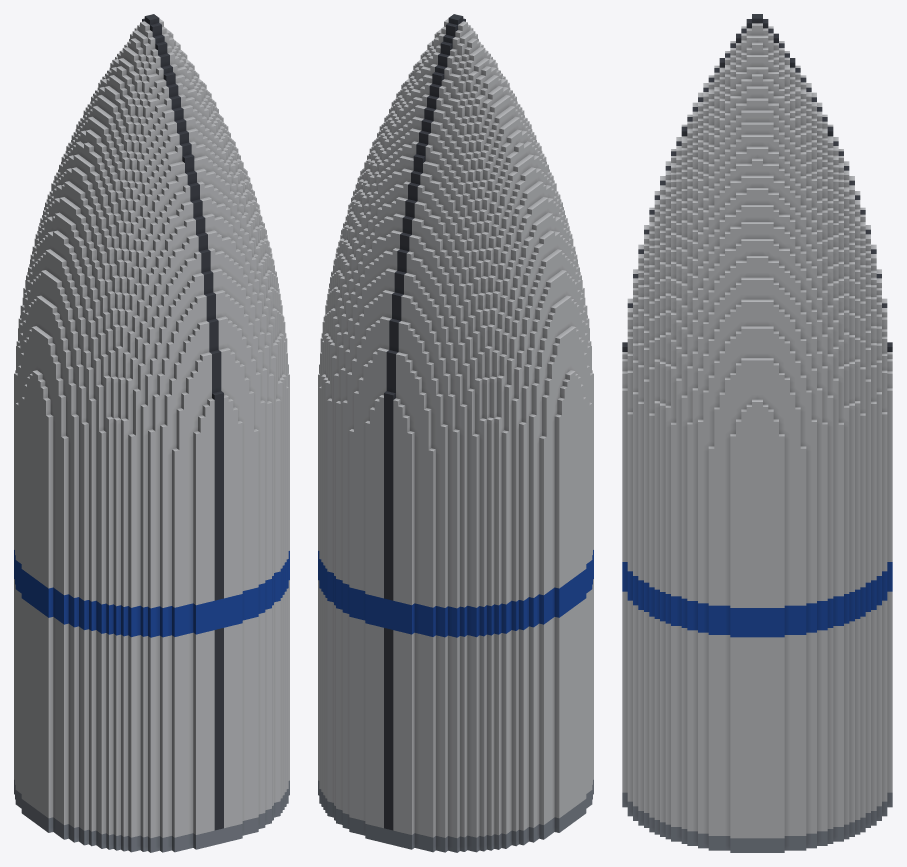
File: fairing_m.glb
3 renders of one model, left to right at view 1: azimuth 30°, elevation 25°; view 2: azimuth 150°, elevation 25°; view 3: azimuth 270°, elevation 25°, orthographic.
Parts seen in each view (by area): view 1: fairing_m; view 2: fairing_m; view 3: fairing_m.
Boxes of the visible parts, bbox=[...] form: fairing_m: bbox=[14, 14, 289, 852]; fairing_m: bbox=[318, 14, 593, 852]; fairing_m: bbox=[622, 14, 892, 852].
Size of the model in its own units: 2.5 by 7.95 by 2.5.
